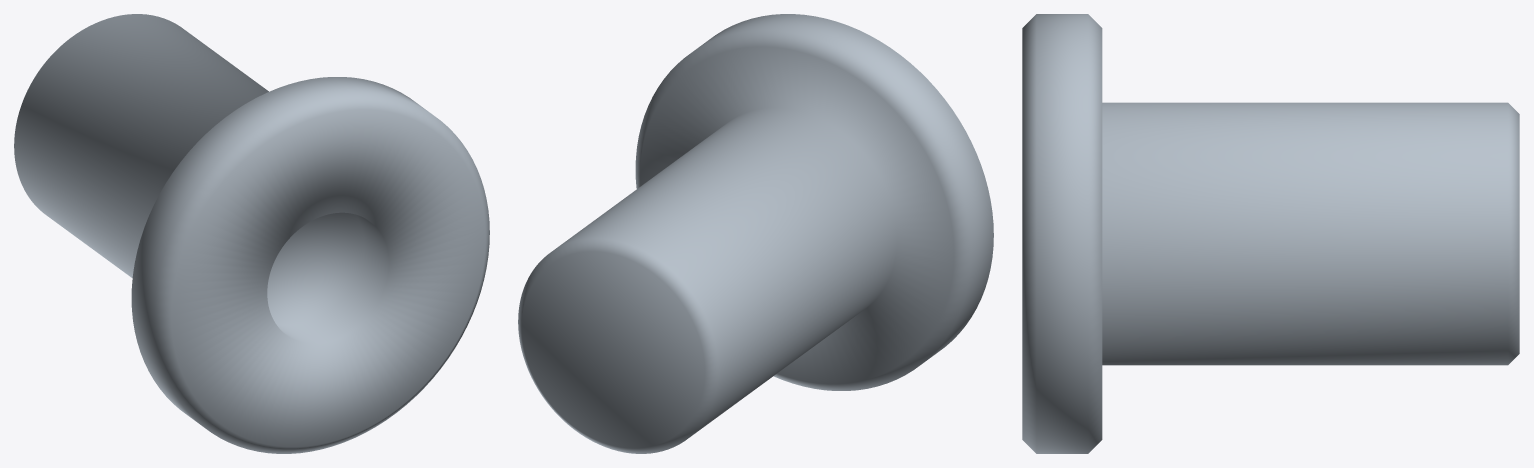
The model's file is pin.obj.
The picture shows the model from 3 angles, left to right: view 1: azimuth 30°, elevation 25°; view 2: azimuth 150°, elevation 25°; view 3: azimuth 270°, elevation 25°; orthographic projection. The views are drawn at different scales.
Bounding box in the file's own units: 0.0077 × 0.0077 × 0.0087.
